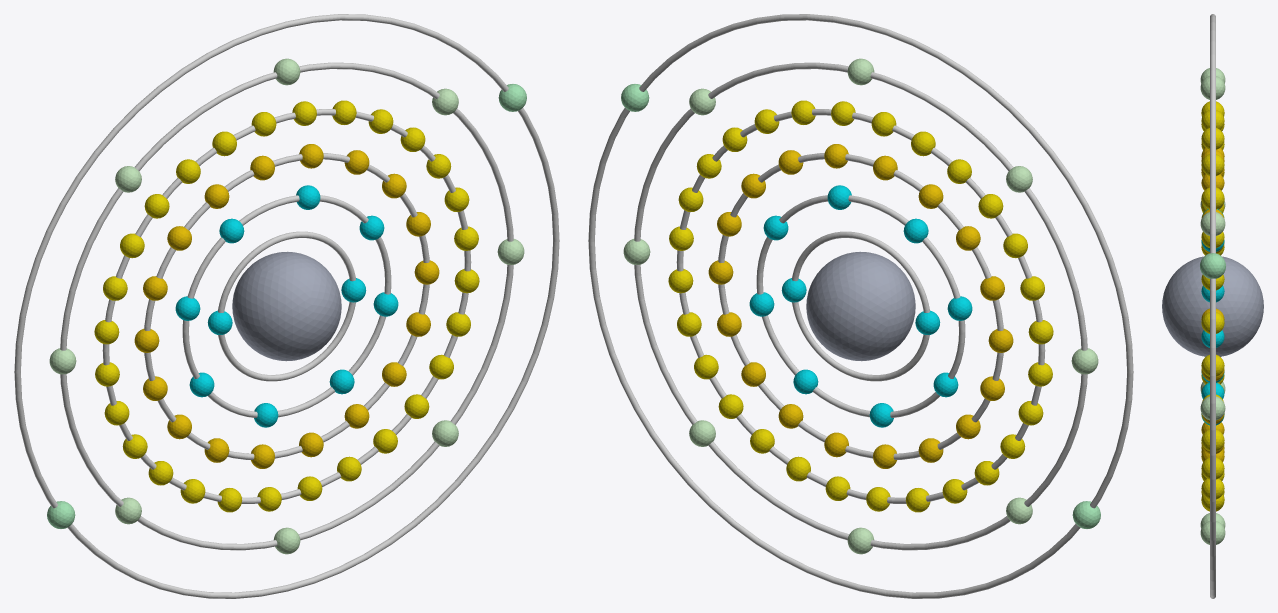
The picture shows the model from 3 angles, left to right: view 1: azimuth 30°, elevation 25°; view 2: azimuth 150°, elevation 25°; view 3: azimuth 270°, elevation 25°; orthographic projection. The views are drawn at different scales.
Parts seen in each view (by area): view 1: world; view 2: world; view 3: world.
Part boxes in pixels (x1=…): world: x1=14, y1=14, x2=559, y2=598; world: x1=588, y1=14, x2=1133, y2=598; world: x1=1162, y1=14, x2=1263, y2=598.
Bounding box in the file's own units: 2.53 × 2.53 × 0.44.
